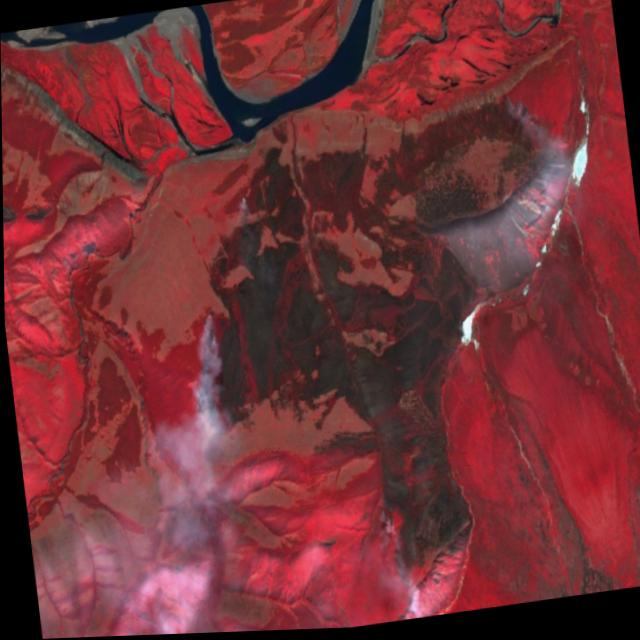fire: (177, 313, 233, 443), (369, 502, 415, 600), (498, 80, 546, 146)
